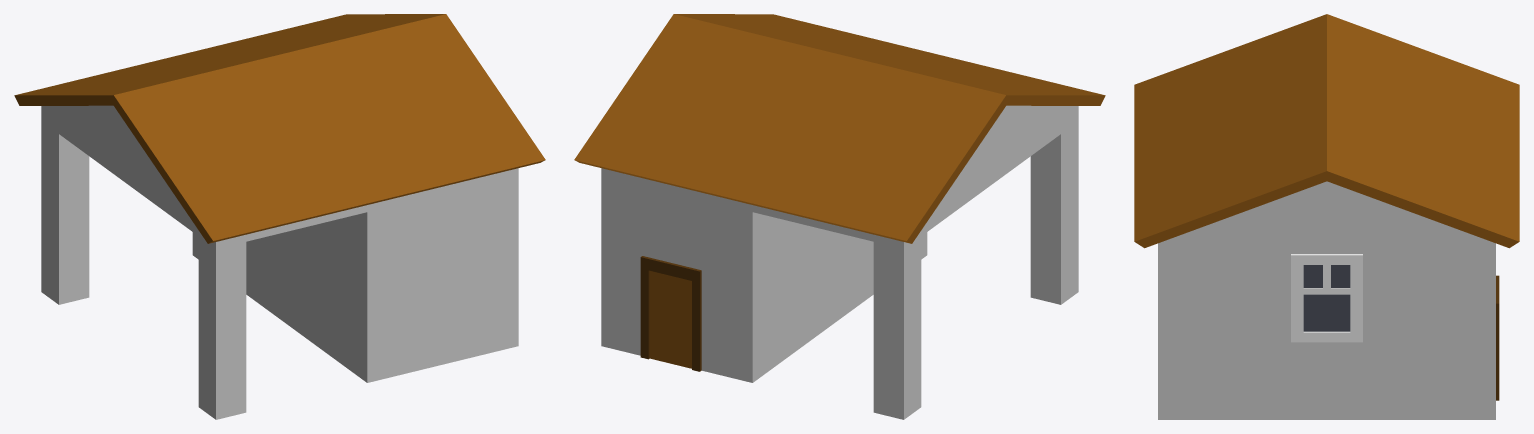
The model's file is house 6.model.fbx.
3 renders of one model, left to right at view 1: azimuth 30°, elevation 25°; view 2: azimuth 150°, elevation 25°; view 3: azimuth 270°, elevation 25°, orthographic. The views are drawn at different scales.
Visible parts, largest first — view 1: roof_44, block_columns_43; view 2: roof_44, block_columns_43, door_low_38; view 3: roof_44, block_columns_43, window_detail_45, door_low_38.
Part boxes in pixels (x1,y1,x2,y2): roof_44: [14, 14, 545, 243]; block_columns_43: [41, 106, 518, 419]; roof_44: [574, 14, 1105, 243]; block_columns_43: [601, 106, 1078, 419]; door_low_38: [640, 256, 701, 371]; roof_44: [1134, 14, 1519, 248]; block_columns_43: [1158, 236, 1495, 419]; window_detail_45: [1291, 254, 1362, 342]; door_low_38: [1496, 275, 1499, 400].
Size of the model in its own units: 33 by 25.08 by 34.2.
